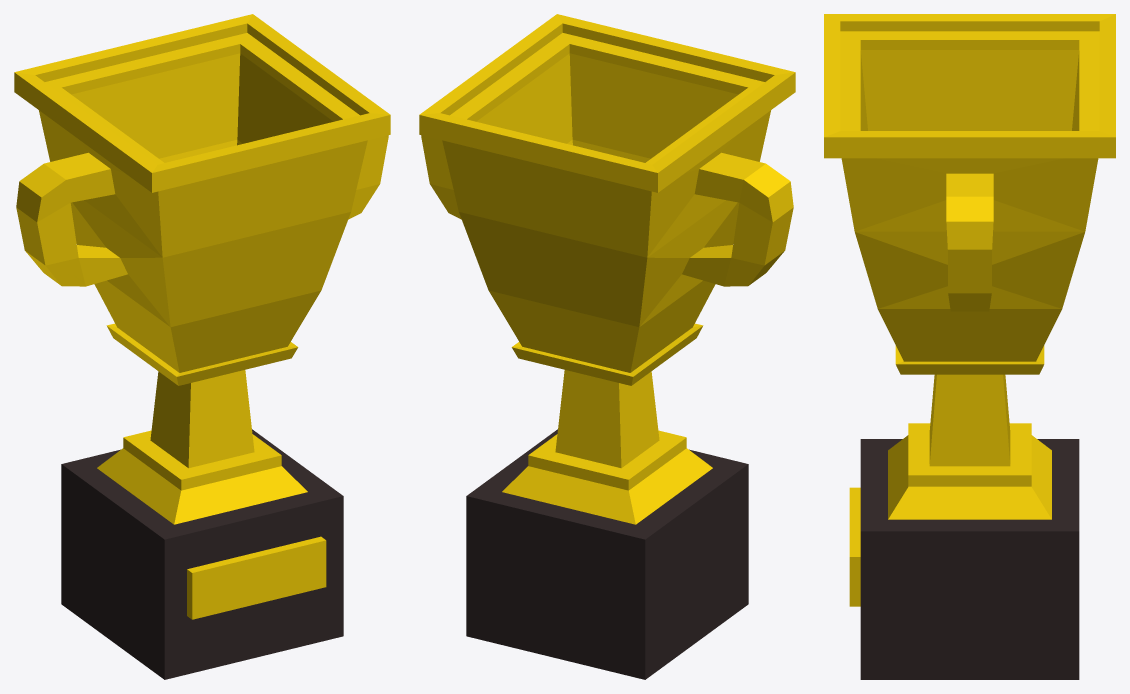
File: trophy.glb
The picture shows the model from 3 angles, left to right: view 1: azimuth 30°, elevation 25°; view 2: azimuth 150°, elevation 25°; view 3: azimuth 270°, elevation 25°; orthographic projection. The views are drawn at different scales.
Parts seen in each view (by area): view 1: trope, base; view 2: trope, base; view 3: trope, base.
Boxes of the visible parts, x1,y1,x2,y2 form: trope: [14, 14, 390, 524]; base: [61, 429, 343, 679]; trope: [419, 14, 795, 524]; base: [466, 429, 748, 679]; trope: [824, 14, 1115, 519]; base: [849, 439, 1079, 679].
Bounding box in the file's own units: 5.9 × 8.45 × 4.
